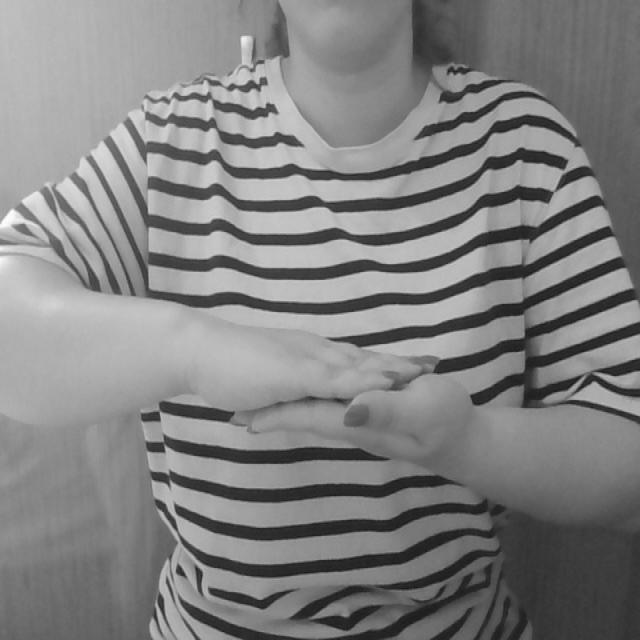Arkadas: (144, 284, 547, 534)
